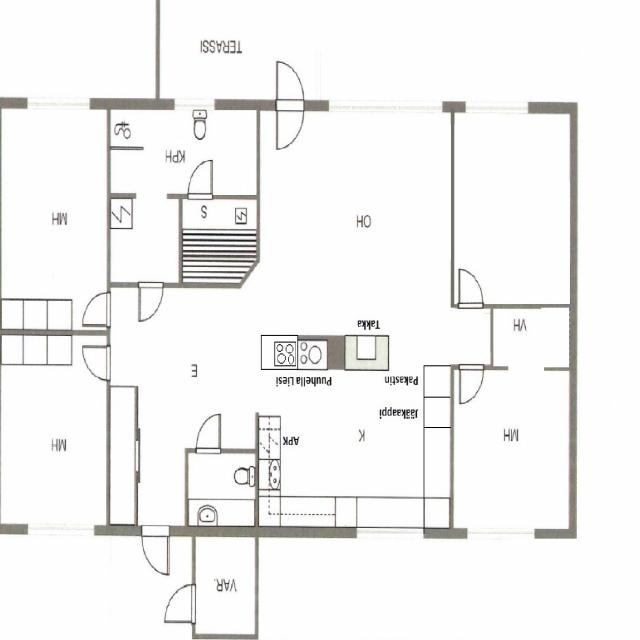door: (141, 525, 170, 576), (276, 59, 304, 108), (276, 98, 304, 146), (166, 585, 195, 621), (82, 292, 110, 326), (196, 413, 220, 452), (139, 282, 163, 321), (459, 365, 483, 403), (188, 160, 212, 198), (83, 346, 110, 378), (460, 271, 482, 308)
